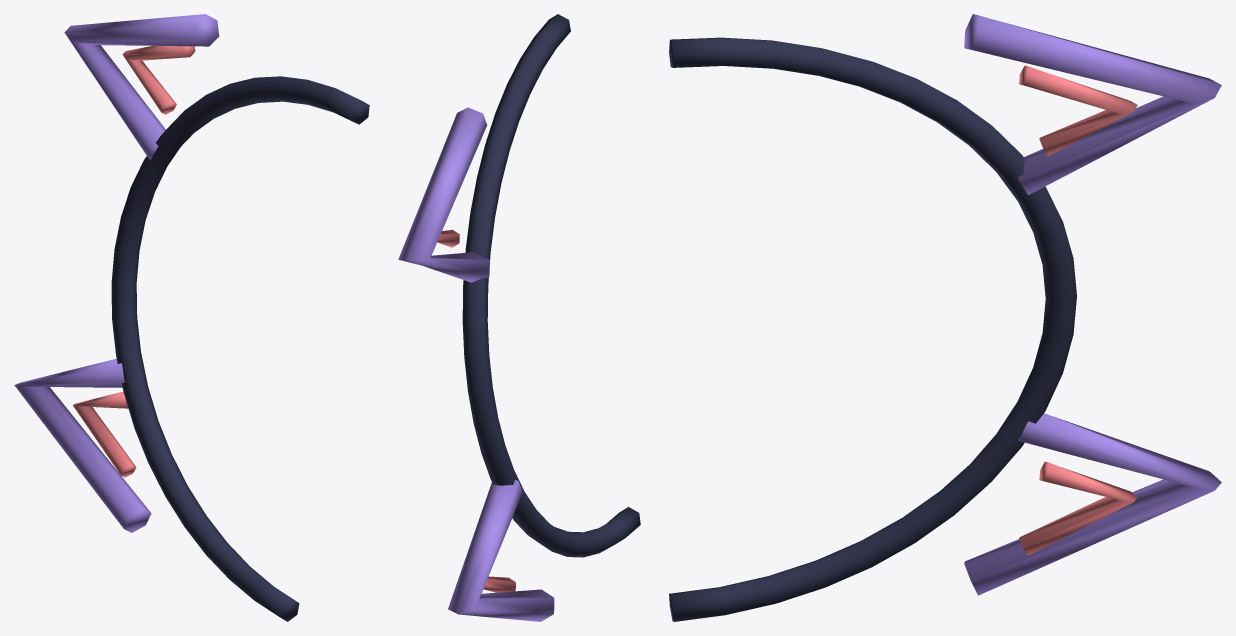
Rendered from pixel-cat.glb.
3 renders of one model, left to right at view 1: azimuth 30°, elevation 25°; view 2: azimuth 150°, elevation 25°; view 3: azimuth 270°, elevation 25°, orthographic. The views are drawn at different scales.
Parts seen in each view (by area): view 1: SHOP_pixel-cat_optimized; view 2: SHOP_pixel-cat_optimized; view 3: SHOP_pixel-cat_optimized.
Boxes of the visible parts, box(x1,y1,x2,y2) form: SHOP_pixel-cat_optimized: box(14, 14, 369, 621); SHOP_pixel-cat_optimized: box(398, 14, 640, 621); SHOP_pixel-cat_optimized: box(669, 14, 1221, 621).
Size of the model in its own units: 0.0885 by 0.3069 by 0.2439.
